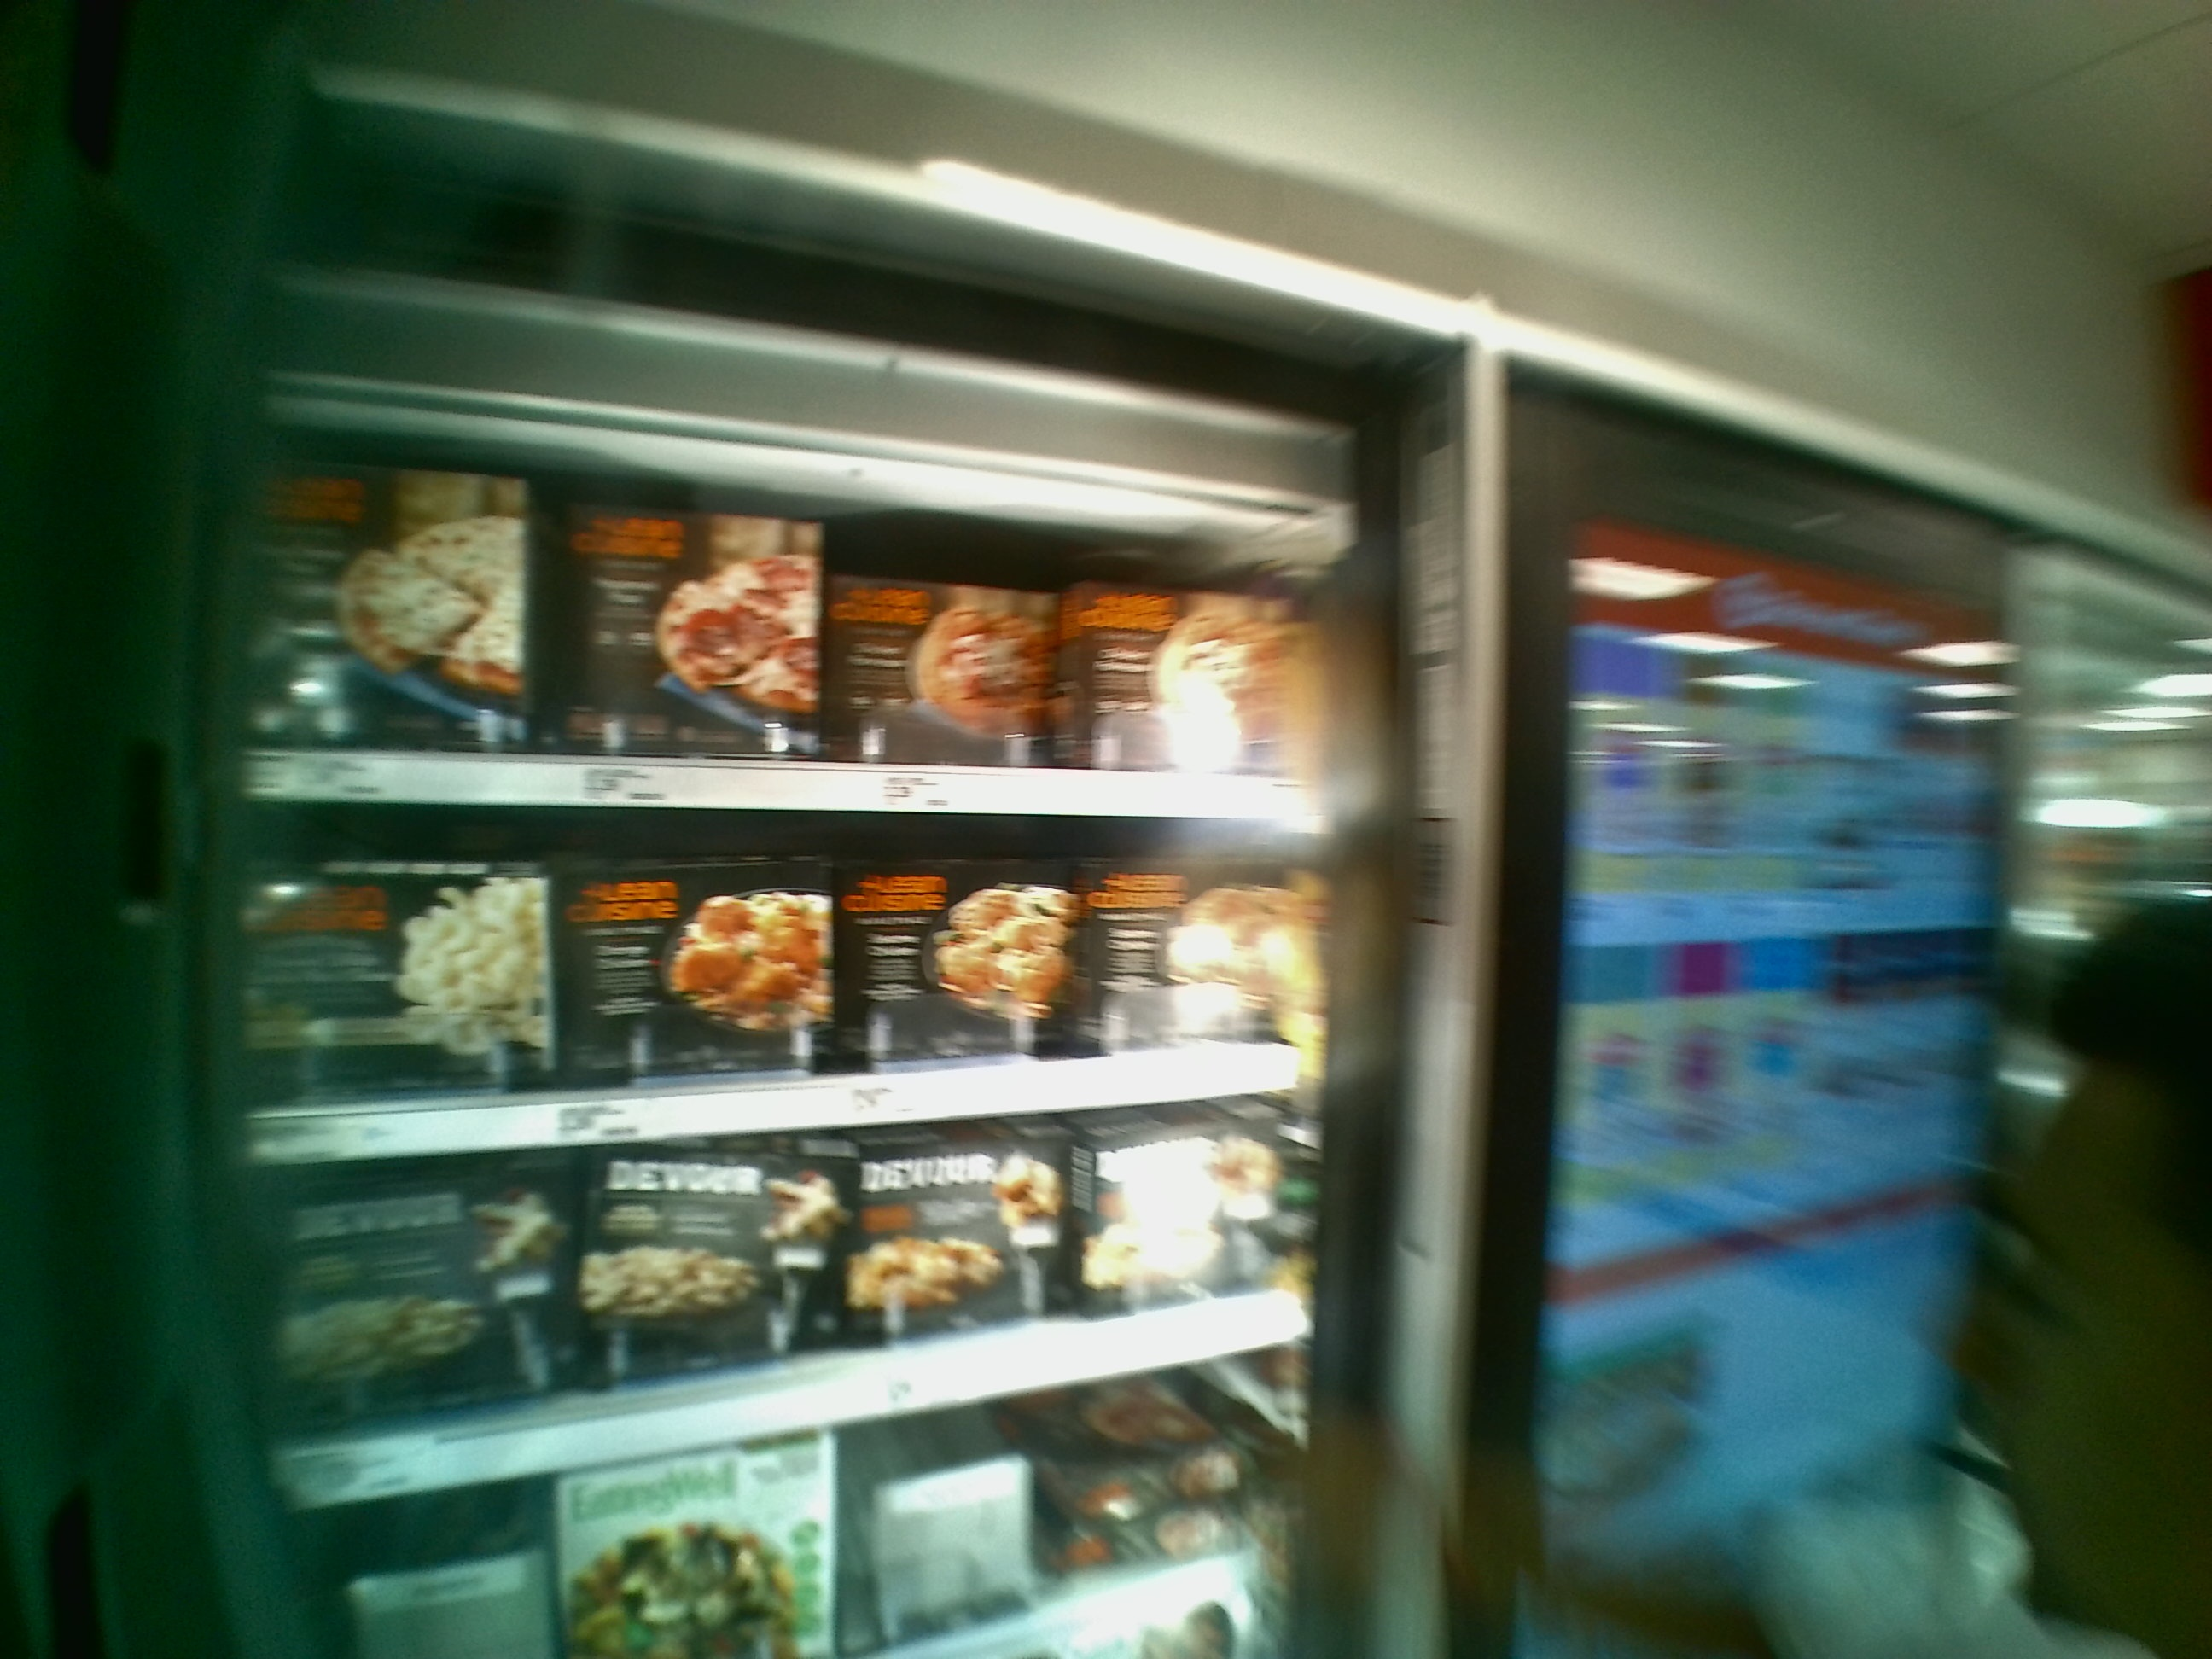shelf: (225, 382, 1327, 819), (251, 793, 1332, 1150)
